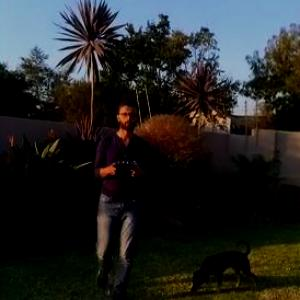follow: (89, 91, 153, 299)
null: (186, 236, 260, 298)
